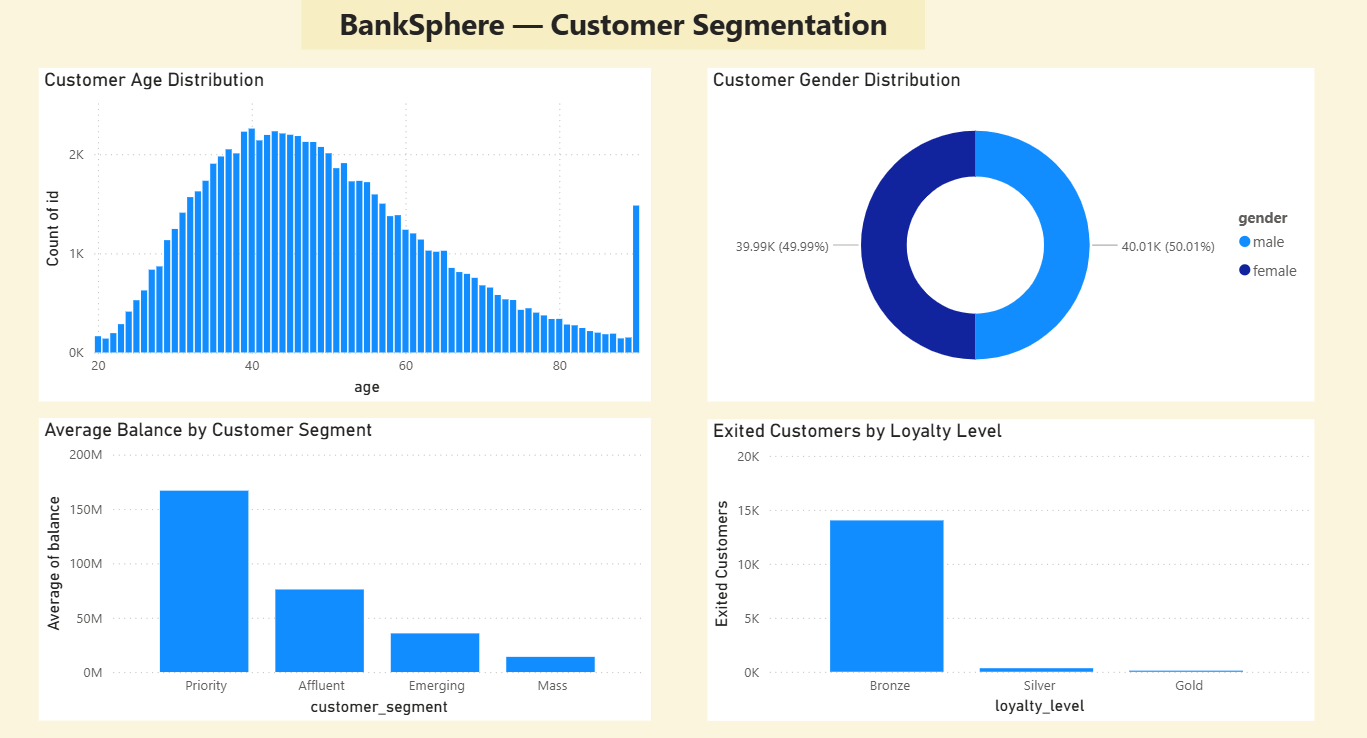

The dashboard page shown, as its layout file describes it:
{"tool":"powerbi","page":{"name":"Customer Segmentation","canvas":[1280,720],"ordinal":1},"visuals":[{"type":"textbox","box":[293.7,45.3,562.6,46.7],"z":0},{"type":"clusteredColumnChart","title":"Customer Age Distribution","fields":{"Category":["BankCustomers.age"],"Y":["CountNonNull(BankCustomers.id)"]},"box":[57.6,108.4,551.6,300.5],"z":1000},{"type":"donutChart","title":"Customer Gender Distribution","fields":{"Category":["BankCustomers.gender"],"Y":["CountNonNull(BankCustomers.id)"]},"box":[660,108.4,547.5,300.5],"z":2000},{"type":"clusteredColumnChart","title":"Average Balance by Customer Segment","fields":{"Category":["BankCustomers.customer_segment"],"Y":["Avg(BankCustomers.balance)"]},"box":[57.6,424,551.6,273.1],"z":3000},{"type":"clusteredColumnChart","title":"Exited Customers by Loyalty Level","fields":{"Category":["BankCustomers.loyalty_level"],"Y":["BankCustomers.Exited Customers"]},"box":[660,425.4,547.5,271.7],"z":4000}]}

Visuals, with their boxes on the page's 1280x720 design canvas (x1, y1, x2, y2). These are canvas units, not pixel positions in the 1367x738 screenshot, which may show the page scaled, cropped or inside an application window:
textbox: 294 45 856 92
"Customer Age Distribution" clusteredColumnChart: 58 108 609 409
"Customer Gender Distribution" donutChart: 660 108 1208 409
"Average Balance by Customer Segment" clusteredColumnChart: 58 424 609 697
"Exited Customers by Loyalty Level" clusteredColumnChart: 660 425 1208 697
